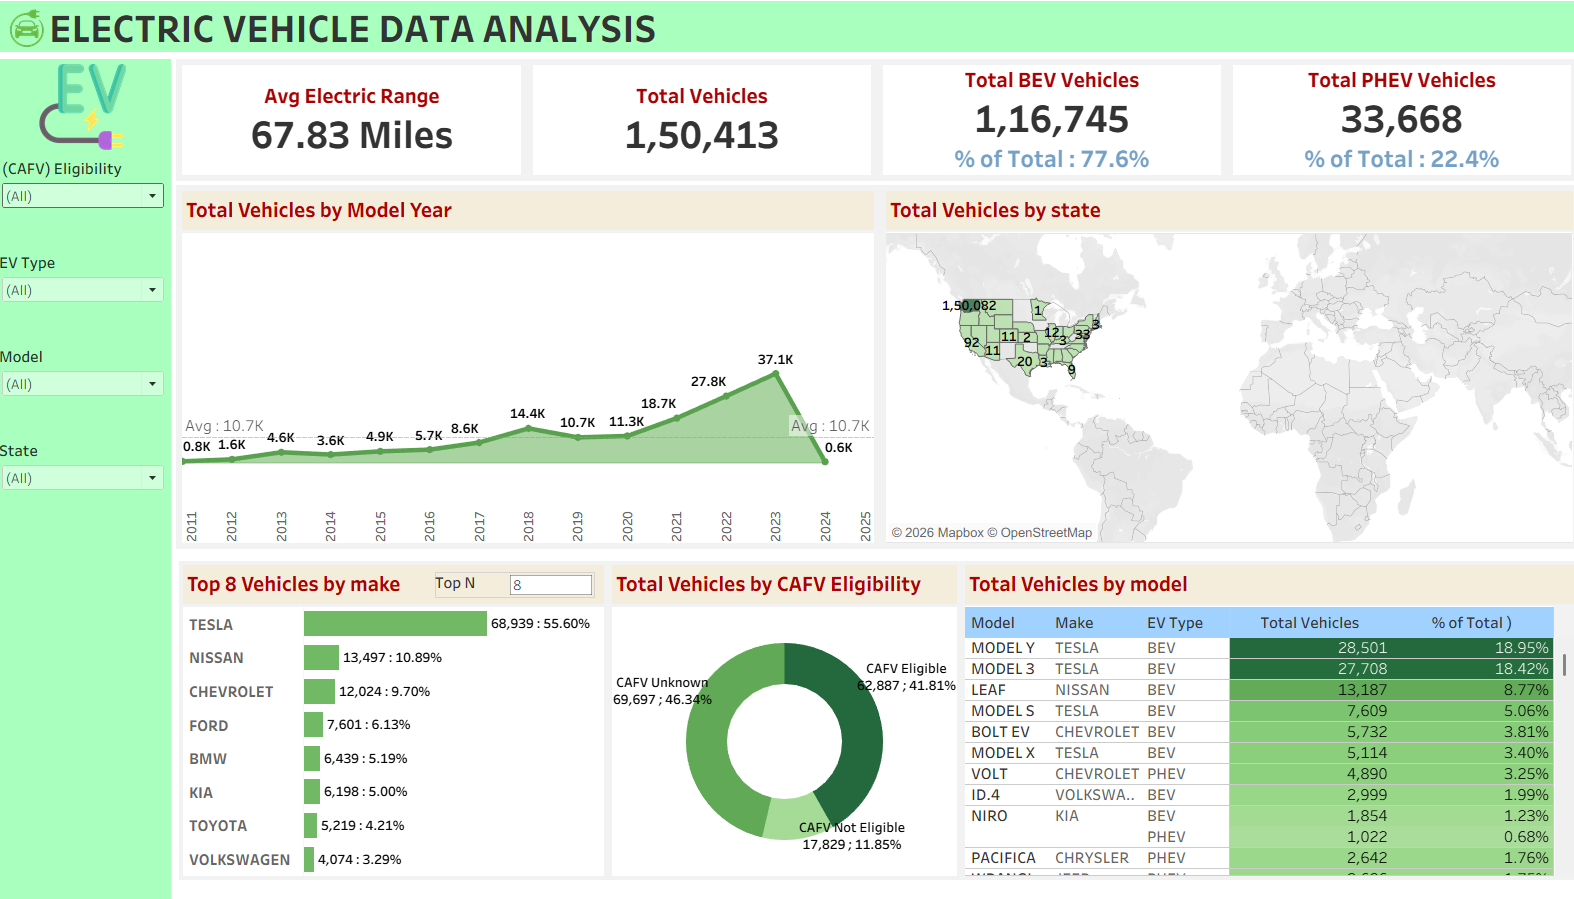

This screenshot's page, from the dashboard's own definition file:
{"tool":"tableau","page":{"name":"Dashboard 1","canvas":[1600,900],"ordinal":0},"visuals":[{"type":"title","box":[8,8,1584,59]},{"type":"image","param":"C:/Users/Minna nourin/Downloads/download (3)-Photoroom.png","box":[10,18,62,41]},{"type":"image","param":"C:/Users/Minna nourin/Downloads/ev-Photoroom.png","box":[9,70,176,95]},{"type":"worksheet","title":"Avg Electric Range","mark":"Automatic","box":[190,70,351,122]},{"type":"worksheet","title":"Total  Vehicles","mark":"Automatic","box":[541,70,350,122]},{"type":"worksheet","title":"Total BEV Vehicle","mark":"Automatic","box":[891,70,350,122]},{"type":"worksheet","title":"Total PHEV Vehicle ","mark":"Automatic","box":[1241,70,350,122]},{"type":"filter","title":"Total Vehicles by Model Year ","param":"[federated.1bsk83r18yvv4x15xtscz18byun1].[none:Clean Alternative Fuel Vehicle (C","box":[9,165,176,94]},{"type":"worksheet","title":"Total Vehicles by Model Year ","mark":"Area","rows":["Calculation_1206771428896768","Calculation_1206771428896768"],"cols":["Model Year"],"box":[190,196,704,364]},{"type":"worksheet","title":"Total Vehicles by state","mark":"Multipolygon","box":[894,196,699,364]},{"type":"filter","title":"Total Vehicles by Model Year ","param":"[federated.1bsk83r18yvv4x15xtscz18byun1].[none:Electric Vehicle Type:nk]","box":[9,259,176,94]},{"type":"filter","title":"Total Vehicles by Model Year ","param":"[federated.1bsk83r18yvv4x15xtscz18byun1].[none:Model:nk]","box":[9,353,176,94]},{"type":"filter","title":"Total Vehicles by Model Year ","param":"[federated.1bsk83r18yvv4x15xtscz18byun1].[none:State:nk]","box":[9,447,176,94]},{"type":"blank","box":[9,541,176,94]},{"type":"worksheet","title":"Top 10 Vehicles by make","mark":"Automatic","rows":["Make"],"cols":["Calculation_1206771428896768"],"box":[193,572,429,319]},{"type":"worksheet","title":"Total Vehicles by CAFV Eligibility","mark":"Pie","rows":["Calculation_1206771465269256","Calculation_1206771465269256"],"box":[622,572,353,319]},{"type":"worksheet","title":"Total Vehicles by model","mark":"Square","rows":["Model","Make","Electric Vehicle Type"],"box":[975,572,618,319]},{"type":"parameter","param":"[Parameters].[Parameter 1]","box":[449,583,160,26]},{"type":"blank","box":[9,635,176,94]},{"type":"blank","box":[9,729,176,94]}]}

Visuals, with their boxes in screenshot pixels (x1, y1, x2, y2), scaled from the page's 1600x900 canvas onto the 1574x899 screenshot:
title: 8,8,1566,67
image: 10,18,71,59
image: 9,70,182,165
"Avg Electric Range" worksheet: 187,70,532,192
"Total  Vehicles" worksheet: 532,70,877,192
"Total BEV Vehicle" worksheet: 877,70,1221,192
"Total PHEV Vehicle " worksheet: 1221,70,1565,192
"Total Vehicles by Model Year " filter: 9,165,182,259
"Total Vehicles by Model Year " worksheet (Area marks): 187,196,879,559
"Total Vehicles by state" worksheet (Multipolygon marks): 879,196,1567,559
"Total Vehicles by Model Year " filter: 9,259,182,353
"Total Vehicles by Model Year " filter: 9,353,182,447
"Total Vehicles by Model Year " filter: 9,447,182,540
blank: 9,540,182,634
"Top 10 Vehicles by make" worksheet: 190,571,612,890
"Total Vehicles by CAFV Eligibility" worksheet (Pie marks): 612,571,959,890
"Total Vehicles by model" worksheet (Square marks): 959,571,1567,890
parameter: 442,582,599,608
blank: 9,634,182,728
blank: 9,728,182,822
